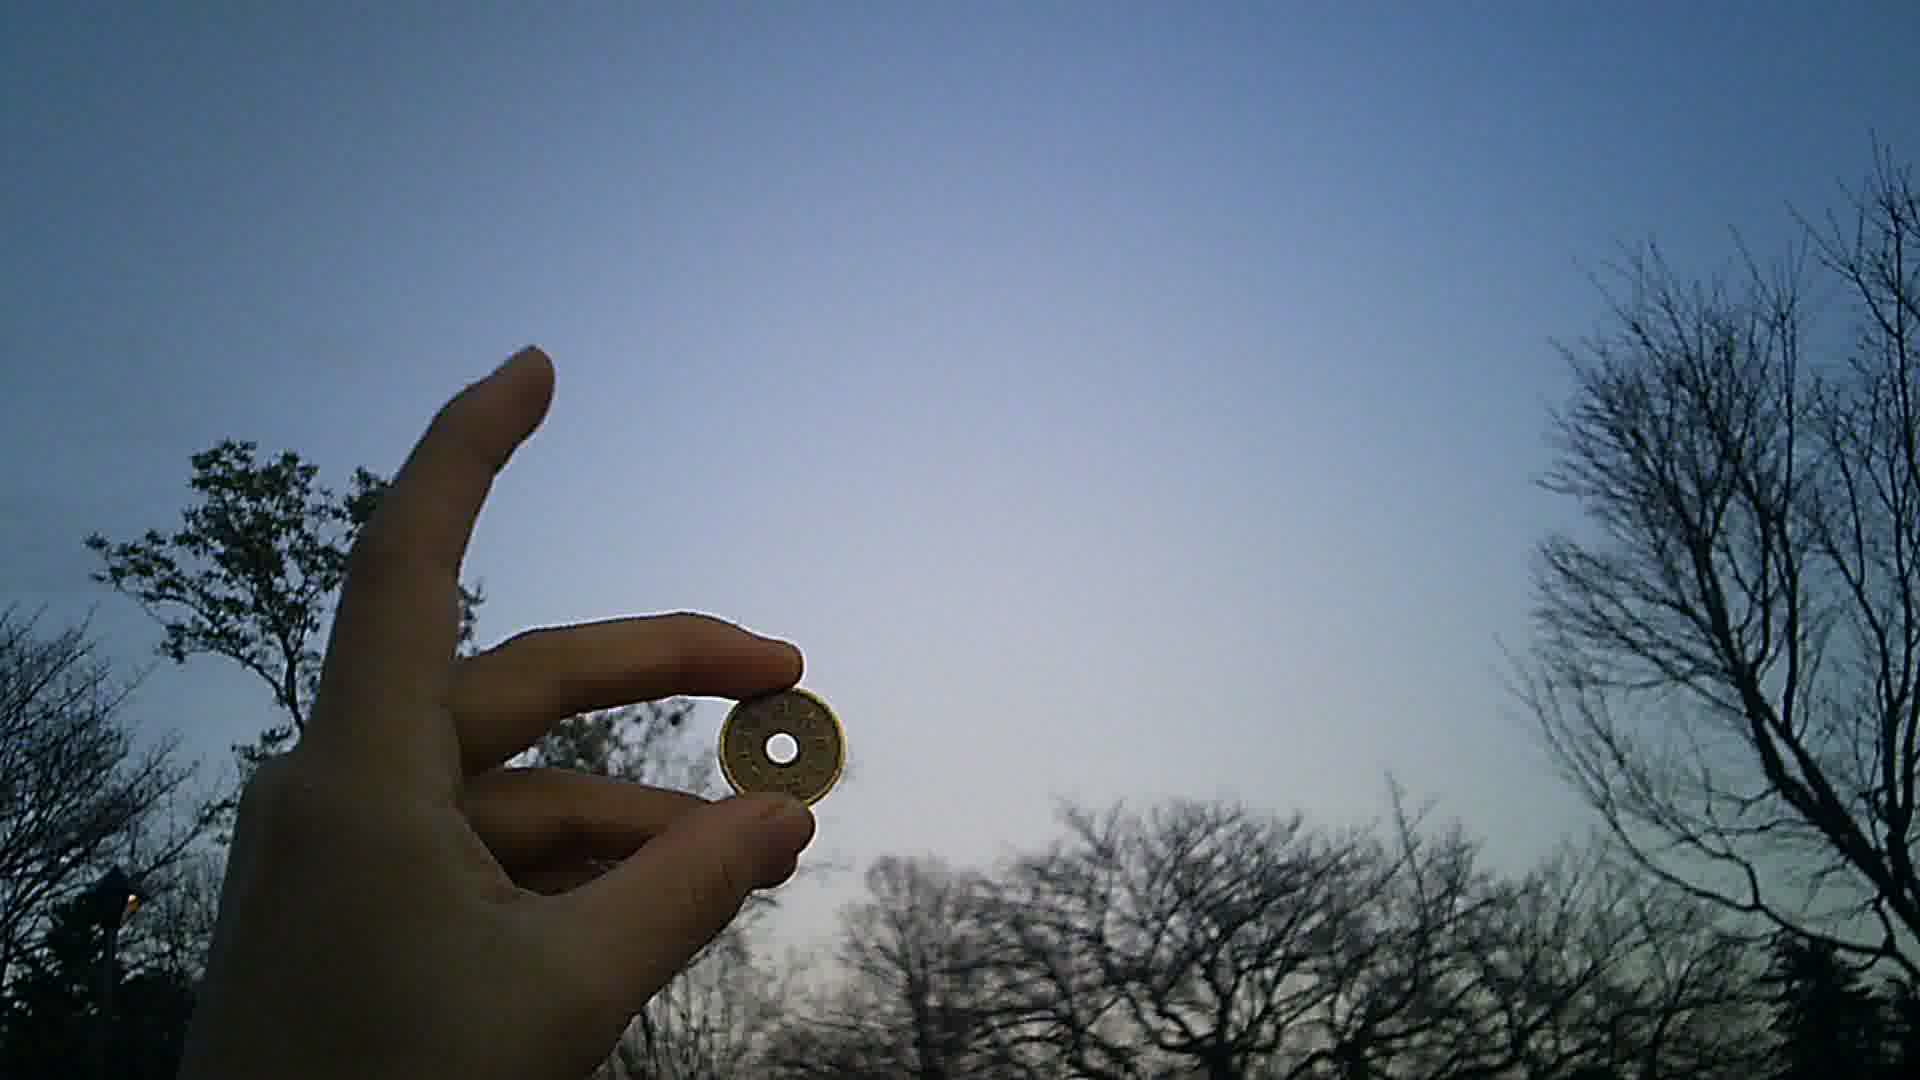5 Yen: (723, 680, 837, 806)
